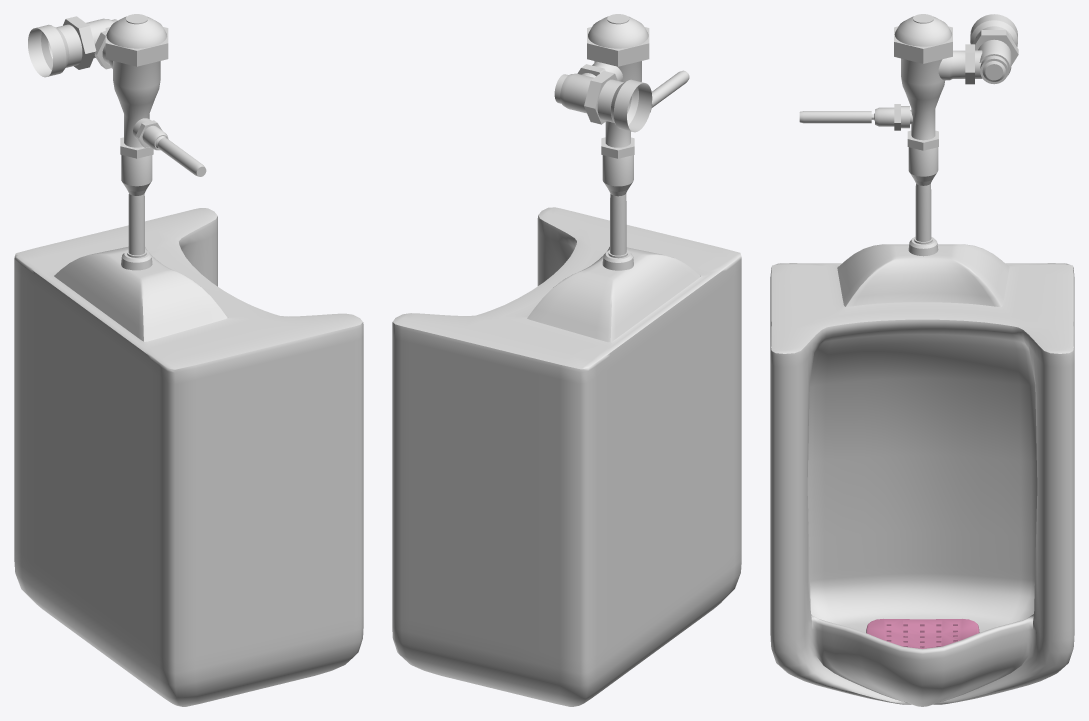
File: Bathroom_And_Misc_2.fbx
3 views of the same model, side by side, from view 1: azimuth 30°, elevation 25°; view 2: azimuth 150°, elevation 25°; view 3: azimuth 270°, elevation 25° (orthographic). The views are drawn at different scales.
Visible parts, largest first — view 1: Cylinder.008; view 2: Cylinder.008; view 3: Cylinder.008.
Boxes of the visible parts, box(x1,y1,x2,y2) form: Cylinder.008: box(14, 14, 363, 706); Cylinder.008: box(392, 14, 741, 706); Cylinder.008: box(770, 14, 1074, 706).
Bounding box in the file's own units: 40.52 × 106 × 44.94.
